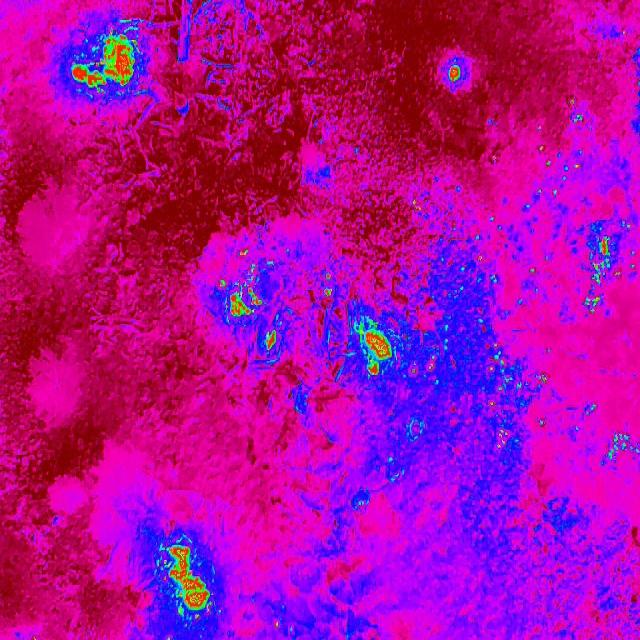fire: (411, 244, 553, 452), (530, 95, 594, 200), (156, 538, 214, 622), (211, 246, 266, 322), (70, 33, 138, 93), (580, 230, 616, 318), (350, 318, 394, 379), (442, 59, 467, 89), (260, 328, 282, 356)
